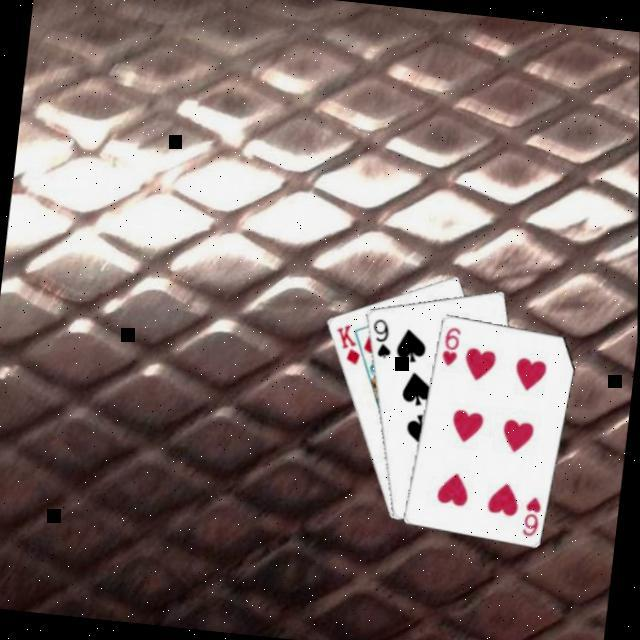6H: (438, 321, 465, 368), (520, 491, 546, 538)
9S: (367, 314, 398, 361)
KD: (330, 319, 368, 367)
